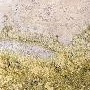Corrosion: (1, 24, 90, 90)
